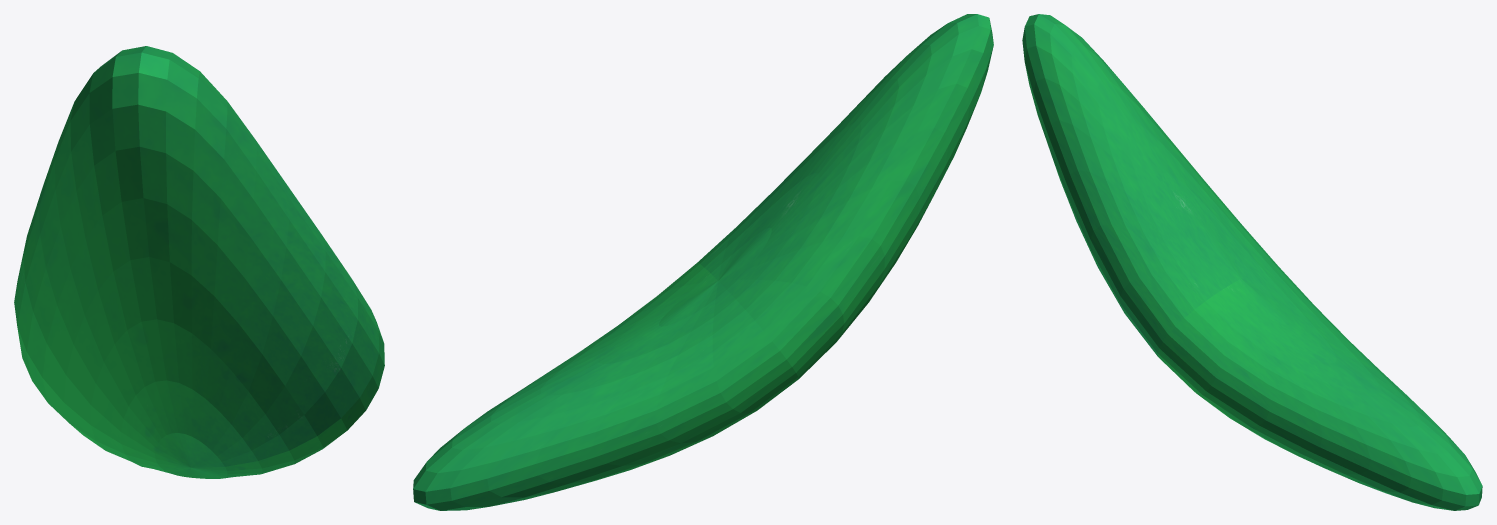
The model's file is sniperCBullet.obj.
3 renders of one model, left to right at view 1: azimuth 30°, elevation 25°; view 2: azimuth 150°, elevation 25°; view 3: azimuth 270°, elevation 25°, orthographic. The views are drawn at different scales.
Visible parts, largest first — view 1: 球; view 2: 球; view 3: 球.
Part boxes in pixels (bbox=[...]): 球: bbox=[14, 46, 384, 478]; 球: bbox=[413, 14, 993, 510]; 球: bbox=[1022, 14, 1482, 510].
Size of the model in its own units: 0.311 by 0.3444 by 0.3965.
Materials: 1 (1 with a texture image).
